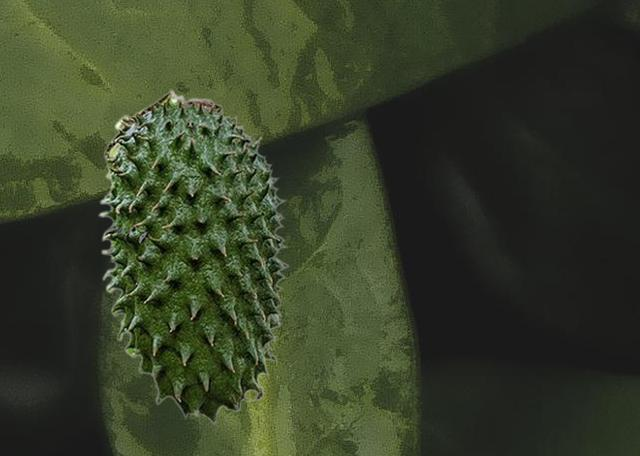guyabano: (98, 88, 289, 423)
